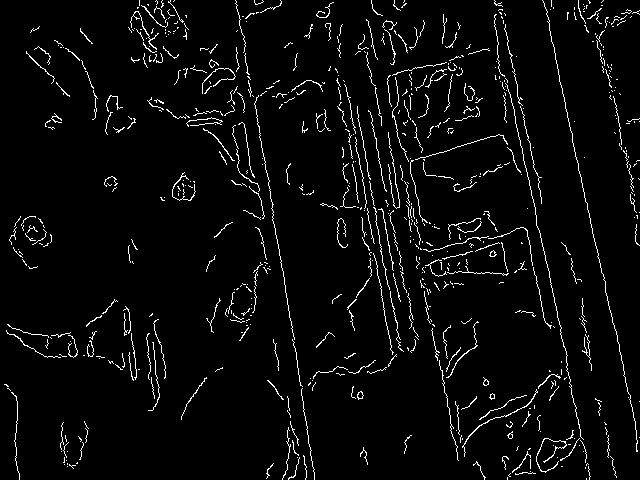red_onion: (2, 331, 153, 480), (1, 165, 123, 327), (160, 218, 268, 392), (171, 306, 275, 478), (128, 118, 253, 254), (106, 1, 236, 103)
